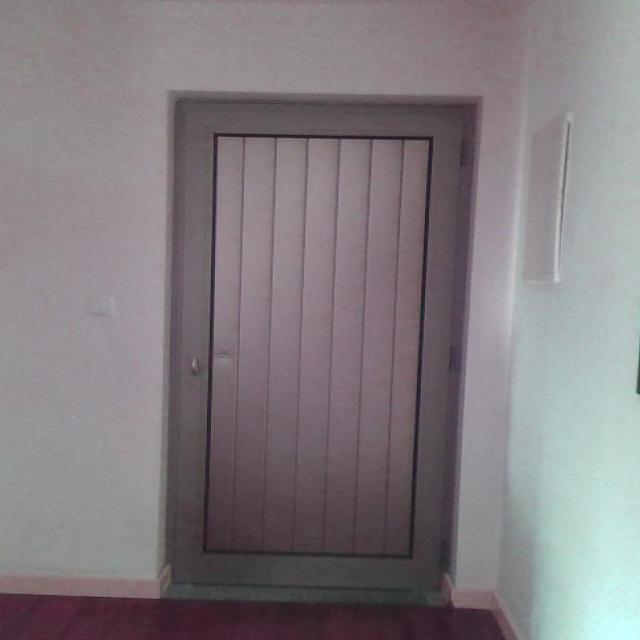door: (166, 93, 476, 595)
